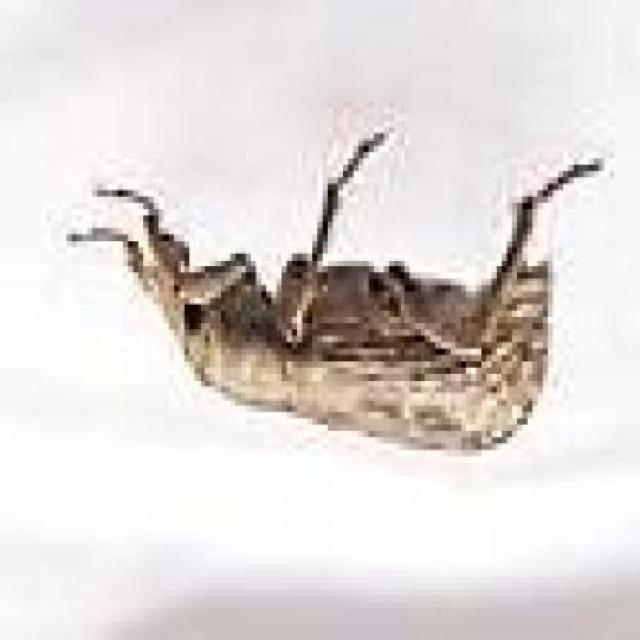rice-bug: (89, 148, 596, 458)
